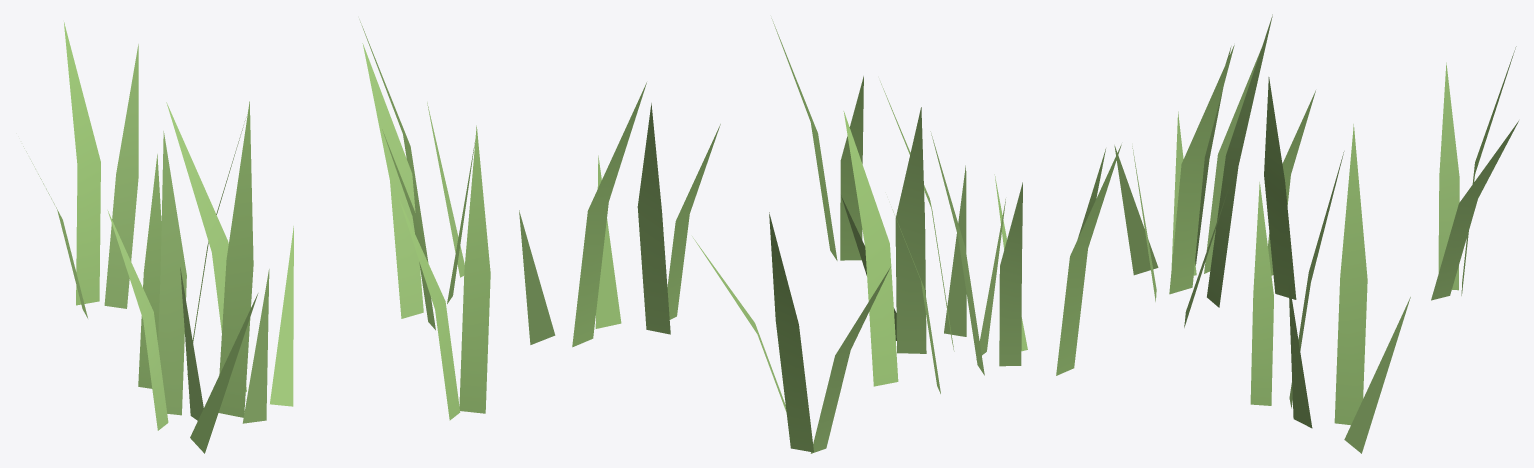
The model's file is Grass_b_TwoS_07.fbx.
3 renders of one model, left to right at view 1: azimuth 30°, elevation 25°; view 2: azimuth 150°, elevation 25°; view 3: azimuth 270°, elevation 25°, orthographic. The views are drawn at different scales.
Visible parts, largest first — view 1: Grass_b_TwoS_07; view 2: Grass_b_TwoS_07; view 3: Grass_b_TwoS_07.
Part boxes in pixels (x1=…): Grass_b_TwoS_07: x1=23, y1=19, x2=490, y2=453; Grass_b_TwoS_07: x1=519, y1=18, x2=1027, y2=453; Grass_b_TwoS_07: x1=1056, y1=14, x2=1518, y2=453.
Size of the model in its own units: 73.63 by 47.99 by 72.47.
